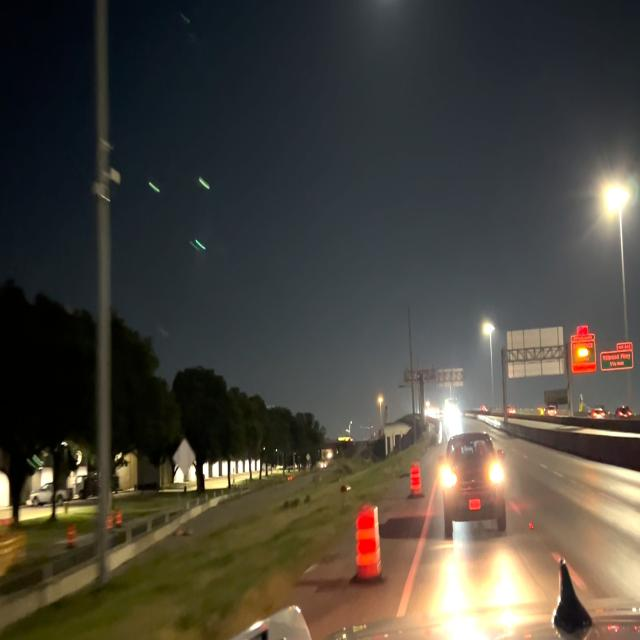back-of-sign: (505, 324, 567, 381), (431, 360, 467, 391), (171, 435, 196, 476)
